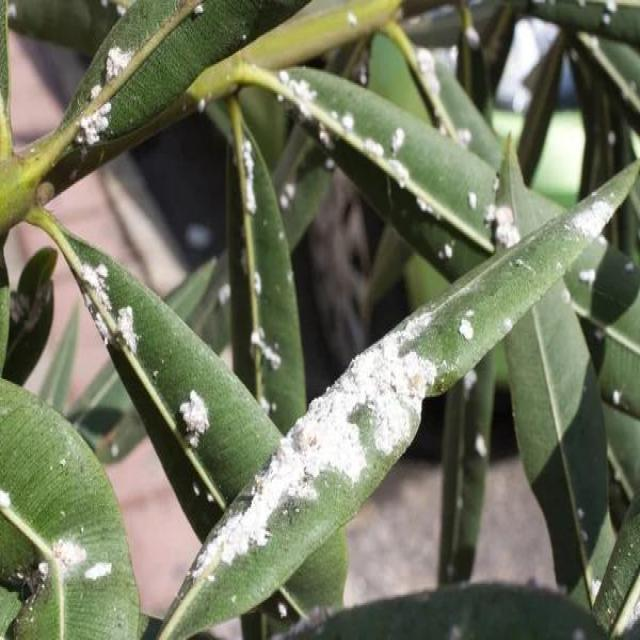Psyllid: (160, 160, 639, 638), (62, 230, 273, 516), (270, 67, 472, 280), (227, 133, 305, 416), (0, 484, 139, 638), (52, 0, 150, 178), (484, 202, 520, 250)
